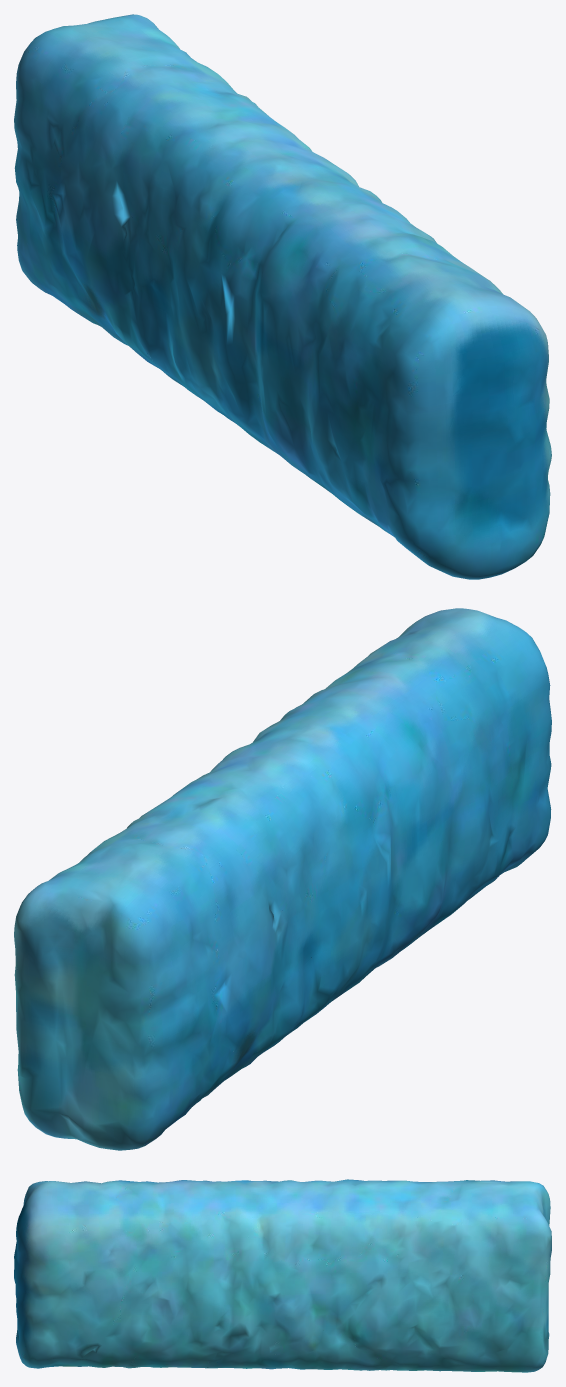
The model's file is btn.gltf.
3 views of the same model, one above another, from view 1: azimuth 30°, elevation 25°; view 2: azimuth 150°, elevation 25°; view 3: azimuth 270°, elevation 25° (orthographic). The views are drawn at different scales.
Visible parts, largest first — view 1: Mesh1; view 2: Mesh1; view 3: Mesh1.
Boxes of the visible parts, x1,y1,x2,y2 form: Mesh1: (14, 14, 551, 579); Mesh1: (14, 608, 551, 1150); Mesh1: (14, 1179, 551, 1372).
Size of the model in its own units: 0.2793 by 0.4291 by 1.2.
1 material, 1 textured.
